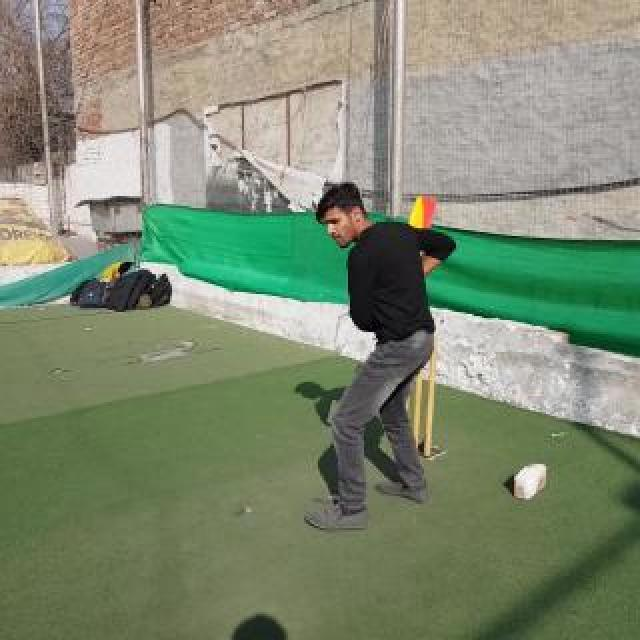bat: (409, 195, 437, 227)
